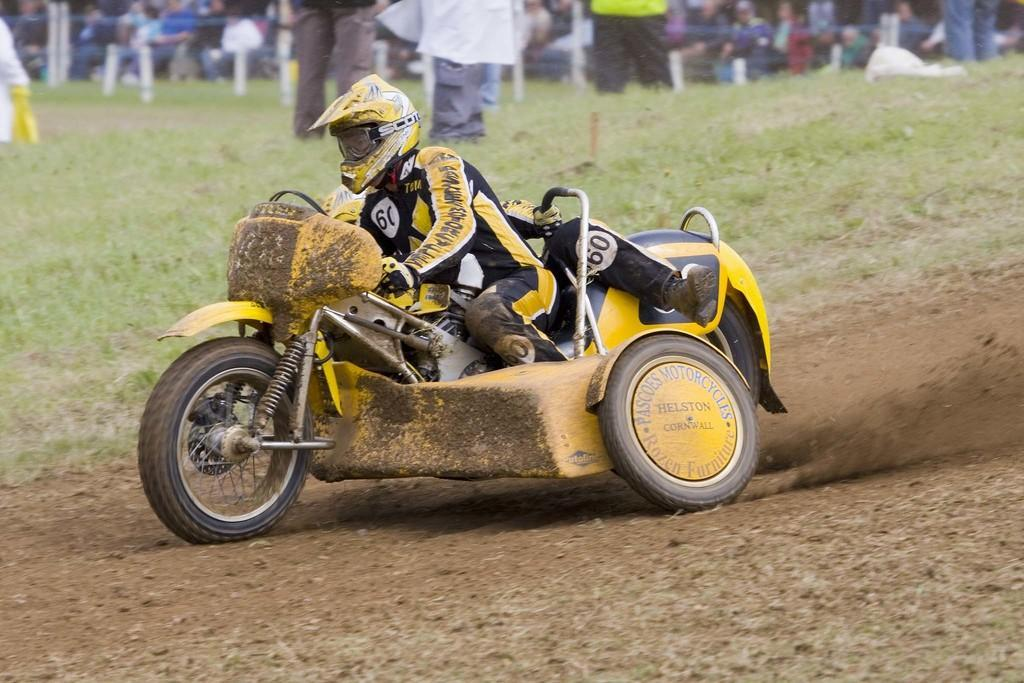helmet: (306, 72, 423, 195)
